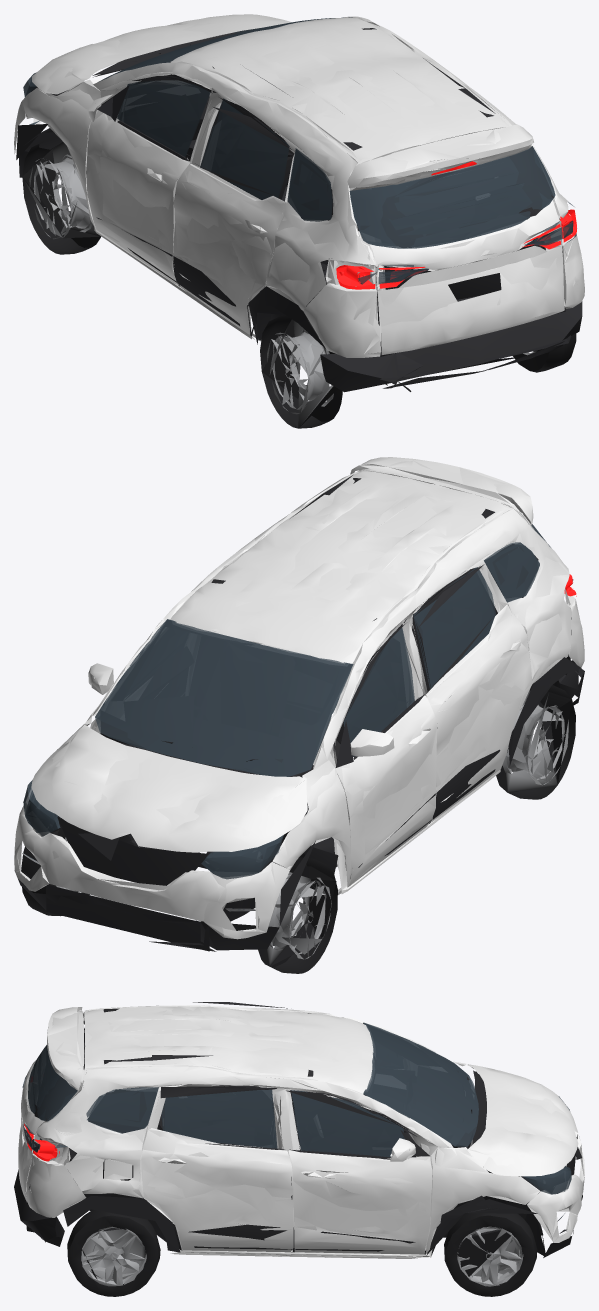
File: triber.glb
3 views of the same model, one above another, from view 1: azimuth 30°, elevation 25°; view 2: azimuth 150°, elevation 25°; view 3: azimuth 270°, elevation 25° (orthographic). The views are drawn at different scales.
Parts seen in each view (by area): view 1: lod0_shell, lod1_shell, wheel_rl, wheel_fl, wheel_rr; view 2: lod0_shell, lod1_shell, wheel_fl, wheel_rl, wheel_fr; view 3: lod0_shell, lod1_shell, wheel_rr, wheel_fr.
Part boxes in pixels (x1,y1,x2,y2): lod0_shell: (14, 14, 584, 391); lod1_shell: (22, 16, 579, 428); wheel_rl: (260, 311, 342, 428); wheel_fl: (22, 142, 100, 254); wheel_rr: (513, 333, 576, 372); lod0_shell: (14, 457, 584, 951); lod1_shell: (16, 460, 580, 966); wheel_fl: (258, 857, 337, 973); wheel_rl: (496, 683, 575, 799); wheel_fr: (21, 829, 89, 916); lod0_shell: (14, 1002, 584, 1258); lod1_shell: (19, 1006, 584, 1283); wheel_rr: (67, 1210, 160, 1296); wheel_fr: (444, 1213, 537, 1296).
Bounding box in the file's own units: 2.18 × 1.91 × 4.51.
